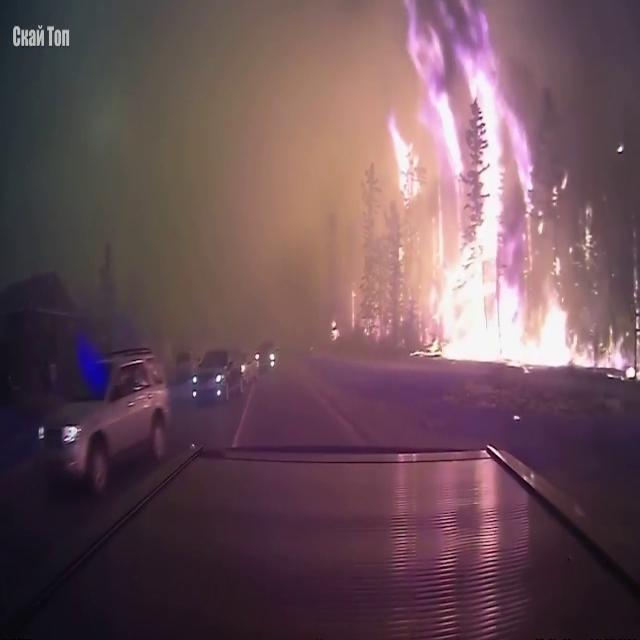Fire: (386, 8, 544, 358), (530, 280, 638, 386)
Smoke: (0, 1, 402, 347)
